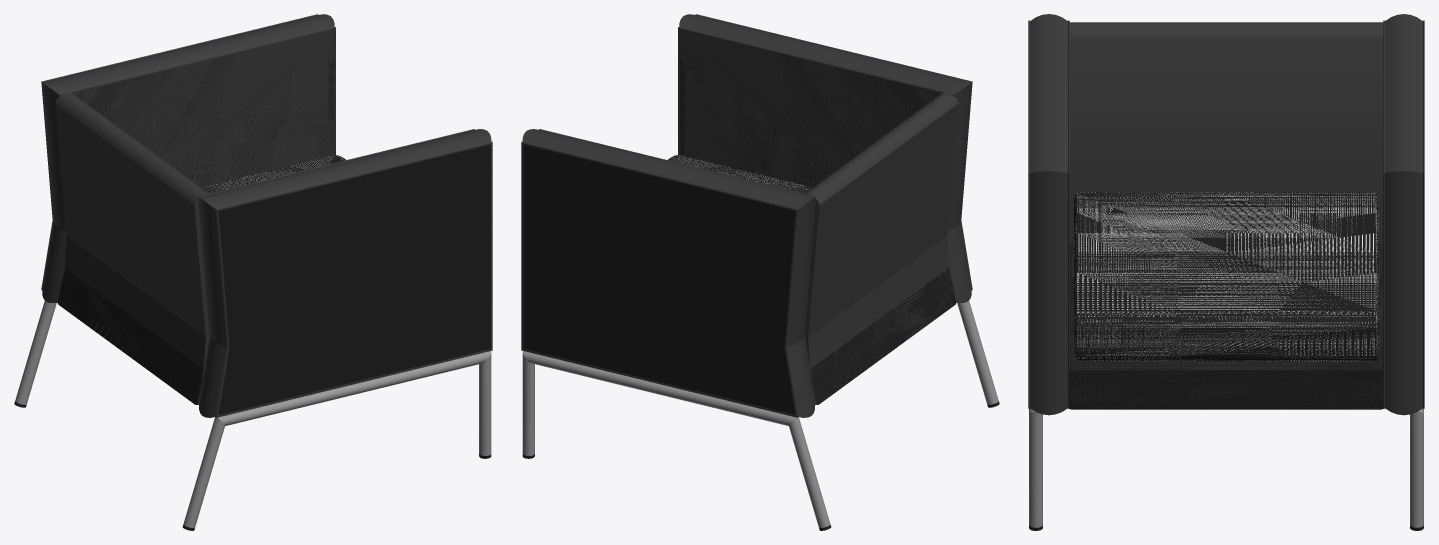
The model's file is large chair.dae.
3 renders of one model, left to right at view 1: azimuth 30°, elevation 25°; view 2: azimuth 150°, elevation 25°; view 3: azimuth 270°, elevation 25°, orthographic. The views are drawn at different scales.
Parts seen in each view (by area): view 1: Component_5 (×4), group_1, Component_3 (×2), group_0, group_2; view 2: Component_5 (×4), group_1, Component_3 (×2), group_0, group_2; view 3: group_1, group_2, Component_5 (×2), group_0, Component_3 (×2).
Boxes of the visible parts, bbox=[...] form: Component_5 (×4): bbox=[41, 14, 492, 417]; group_1: bbox=[55, 93, 209, 368]; Component_3 (×2): bbox=[15, 301, 491, 527]; group_0: bbox=[57, 268, 204, 404]; group_2: bbox=[201, 155, 345, 193]; Component_5 (×4): bbox=[521, 14, 972, 417]; group_1: bbox=[804, 93, 958, 368]; Component_3 (×2): bbox=[522, 301, 998, 527]; group_0: bbox=[809, 268, 956, 404]; group_2: bbox=[668, 155, 812, 193]; group_1: bbox=[1069, 22, 1383, 243]; group_2: bbox=[1074, 192, 1378, 361]; Component_5 (×2): bbox=[1028, 14, 1424, 415]; group_0: bbox=[1069, 243, 1383, 409]; Component_3 (×2): bbox=[1029, 408, 1423, 527].
Size of the model in its own units: 29.51 by 28.62 by 28.94.
Materials: 6 (6 with a texture image).
